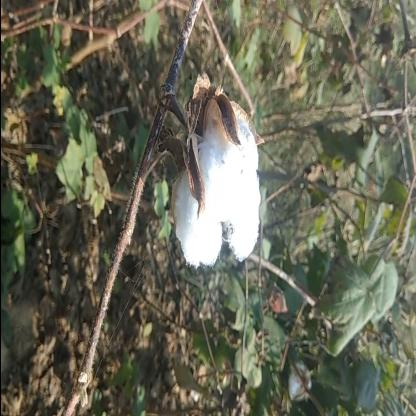cotton_ready: (126, 75, 274, 289)
